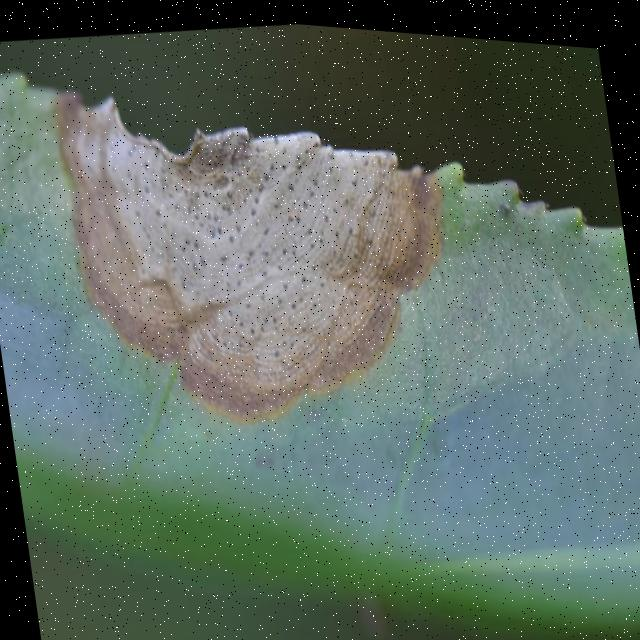Tea cloud leaf blight: (50, 23, 471, 455)
